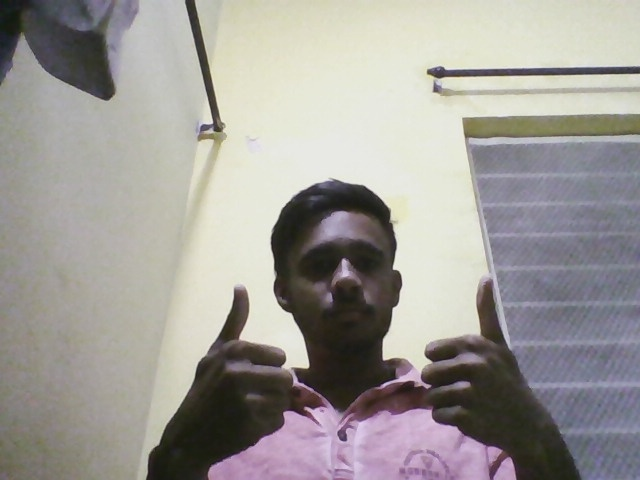thankyou: (159, 271, 542, 468)
